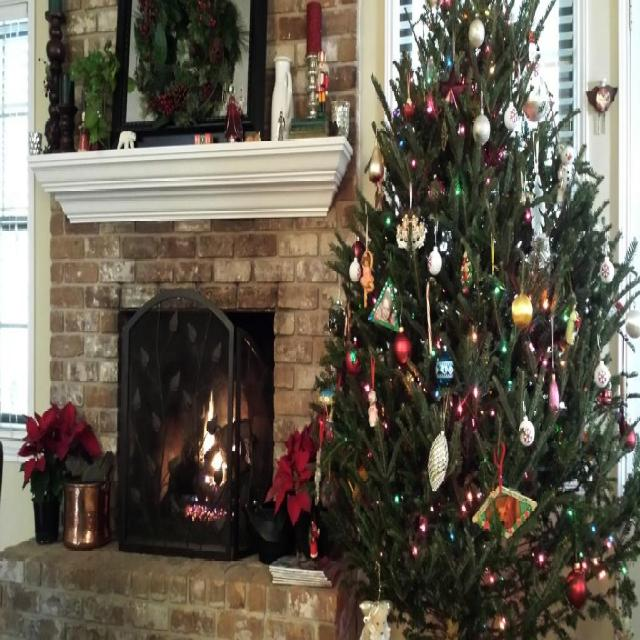Fire: (196, 396, 225, 486)
